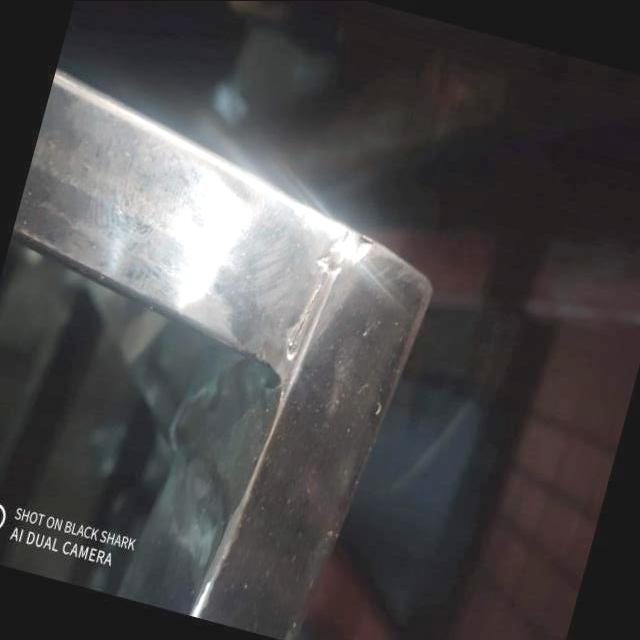defect: (285, 271, 329, 357)
